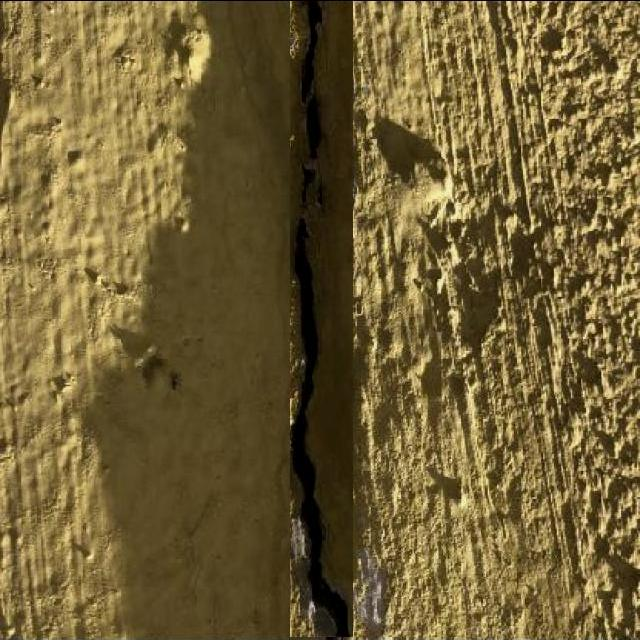Crack: (284, 0, 349, 637)
